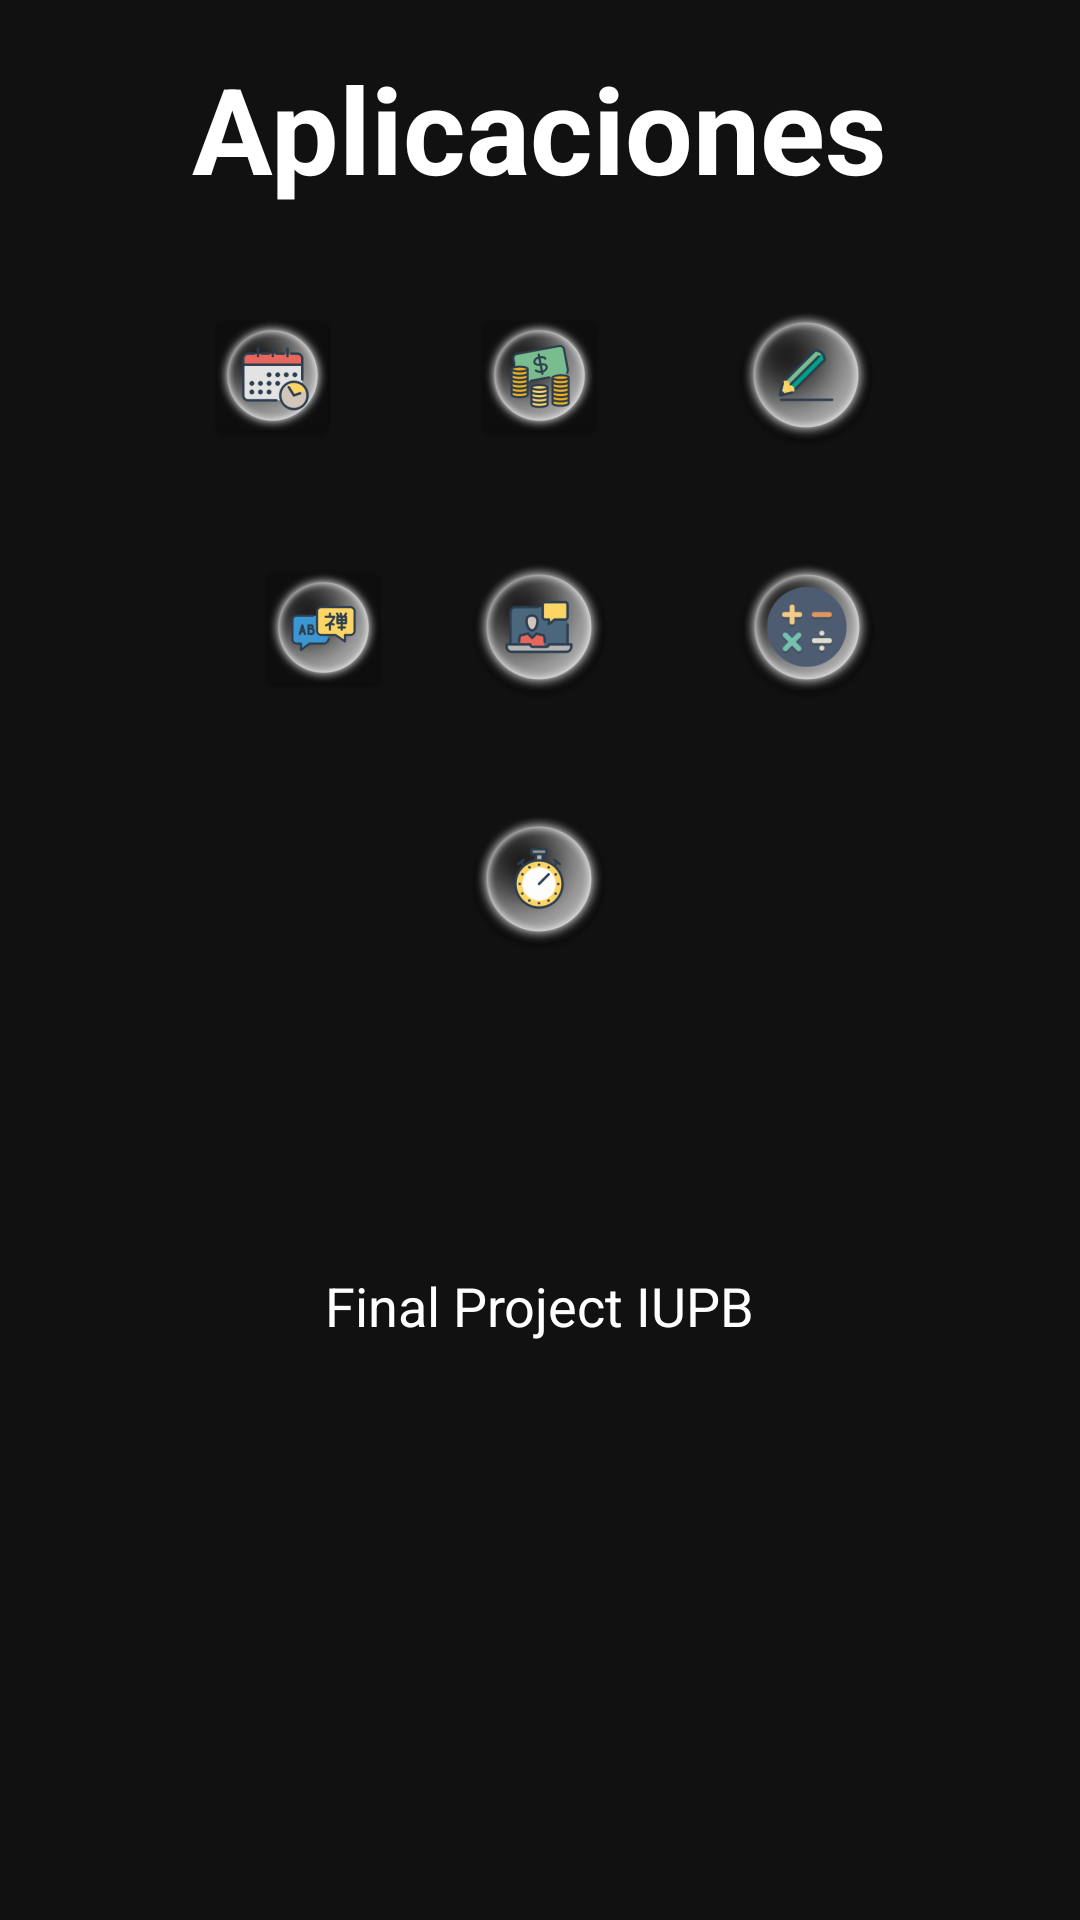

Where to tap for icons on this 1080*1920 app screen, as (x=x, y=y):
calculadoraa round: (x=807, y=627)
calendario: (x=272, y=375)
contactoss round: (x=539, y=627)
convermoneda: (x=539, y=375)
relojj round: (x=539, y=879)
traductorr: (x=323, y=627)
